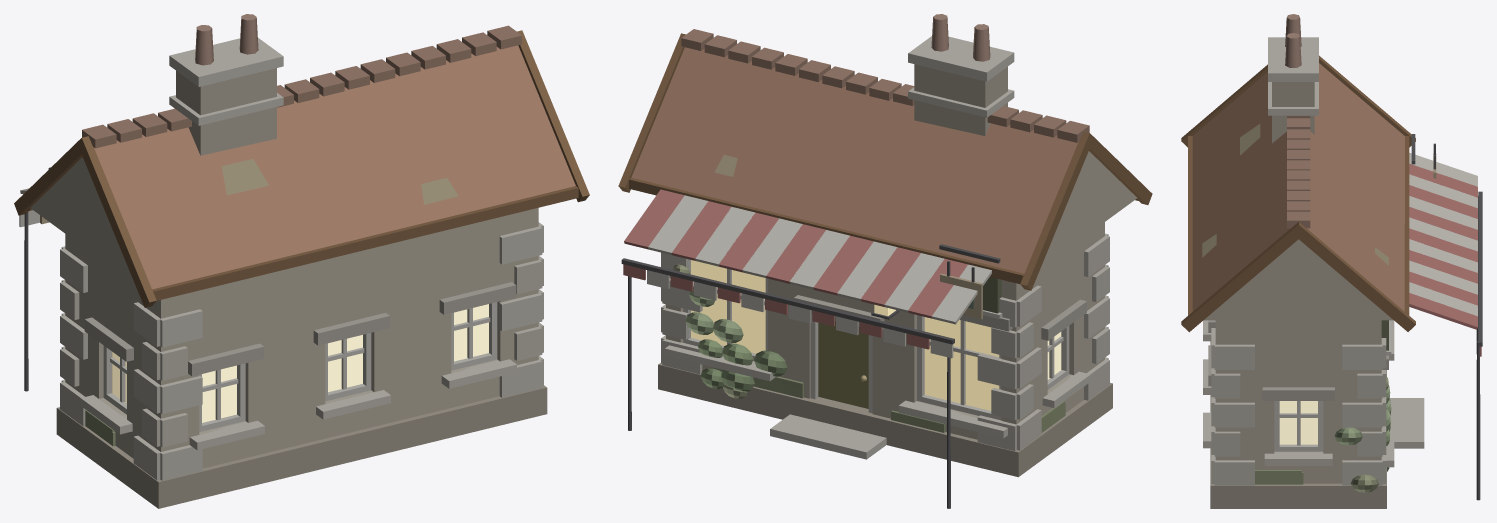
File: cafe.glb
3 views of the same model, side by side, from view 1: azimuth 30°, elevation 25°; view 2: azimuth 150°, elevation 25°; view 3: azimuth 270°, elevation 25° (orthographic). The views are drawn at different scales.
Parts seen in each view (by area): view 1: cafe; view 2: cafe; view 3: cafe.
Part boxes in pixels (x1=…): cafe: x1=14, y1=14, x2=589, y2=508; cafe: x1=618, y1=14, x2=1152, y2=508; cafe: x1=1181, y1=14, x2=1482, y2=508.
Bounding box in the file's own units: 4.15 × 3.81 × 2.83.
